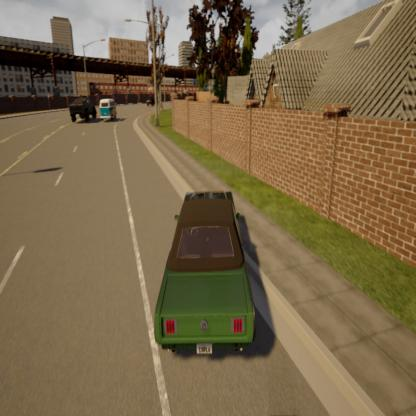Cars: (148, 183, 269, 372), (65, 95, 98, 123), (98, 97, 119, 123)
